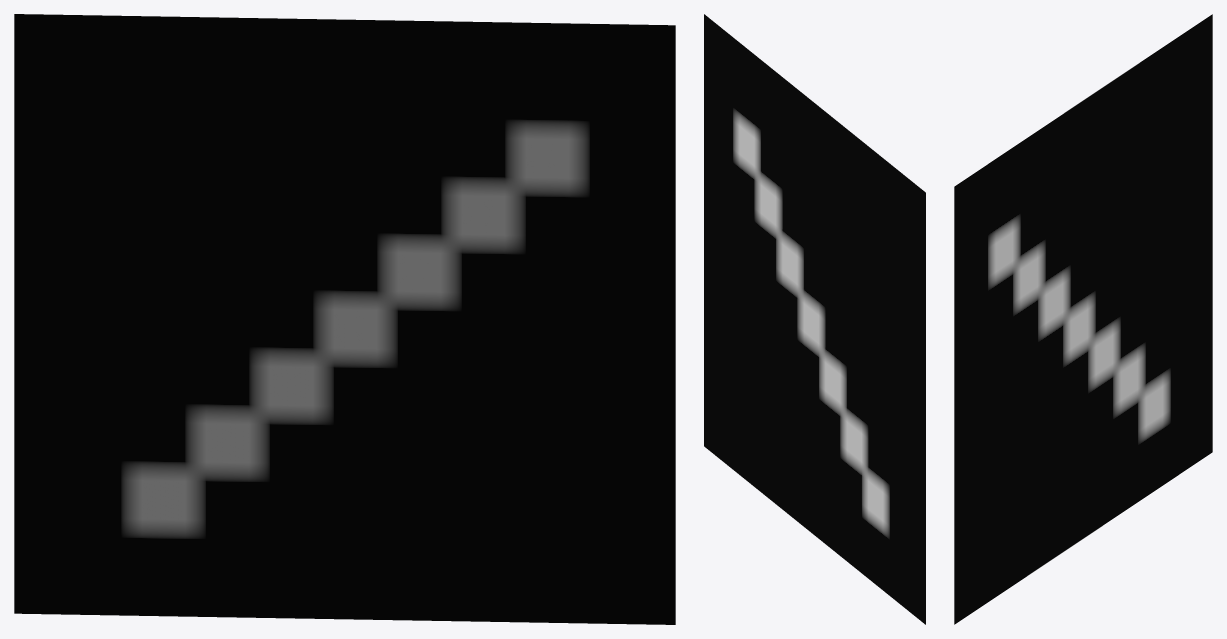
The picture shows the model from 3 angles, left to right: view 1: azimuth 30°, elevation 25°; view 2: azimuth 150°, elevation 25°; view 3: azimuth 270°, elevation 25°; orthographic projection. The views are drawn at different scales.
Parts seen in each view (by area): view 1: Joint_0_Object_0; view 2: Joint_0_Object_0; view 3: Joint_0_Object_0.
Boxes of the visible parts, left/top/right/bottom form: Joint_0_Object_0: left=14, top=14, right=675, bottom=624; Joint_0_Object_0: left=704, top=14, right=925, bottom=624; Joint_0_Object_0: left=954, top=14, right=1212, bottom=624.
Size of the model in its own units: 27.04 by 32 by 17.11.
Materials: 1 (1 with a texture image).
